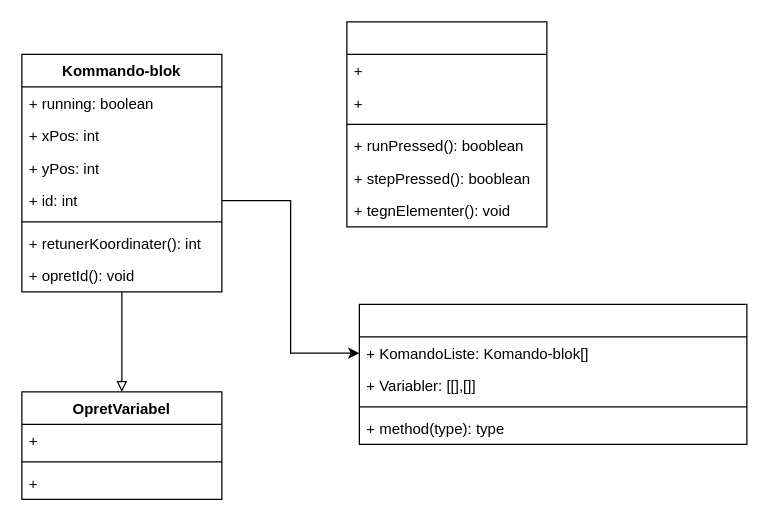
Image size: 769x525. Some labels were removed from this diagram. Each missing label, with the box of its shape:
Controler: (358, 303, 747, 444)
GUI: (346, 21, 547, 227)
